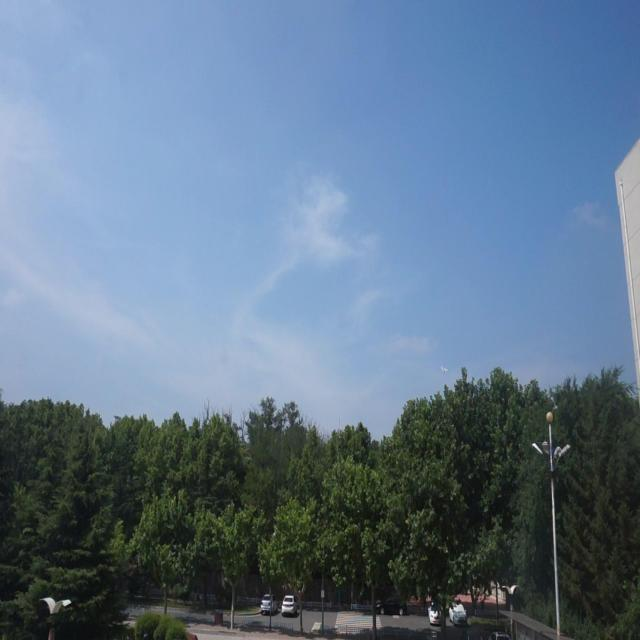drone: (440, 363, 450, 375)
